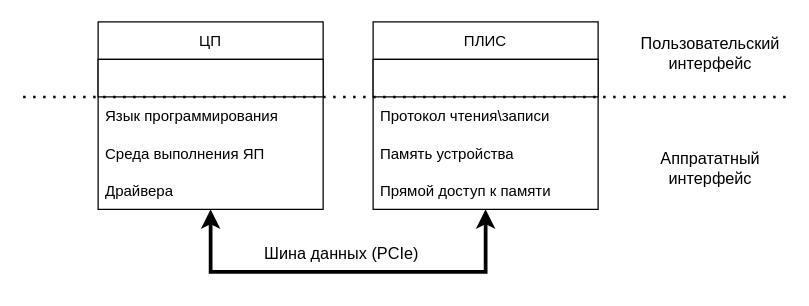
Some shapes in this 809 by 306 pixel diagram are drawn without their labels. The centre of each missing label's shape, as x and y in pixels:
"Приложения" belongs at [210,77].
"Ядра функций" belongs at [485,77].
